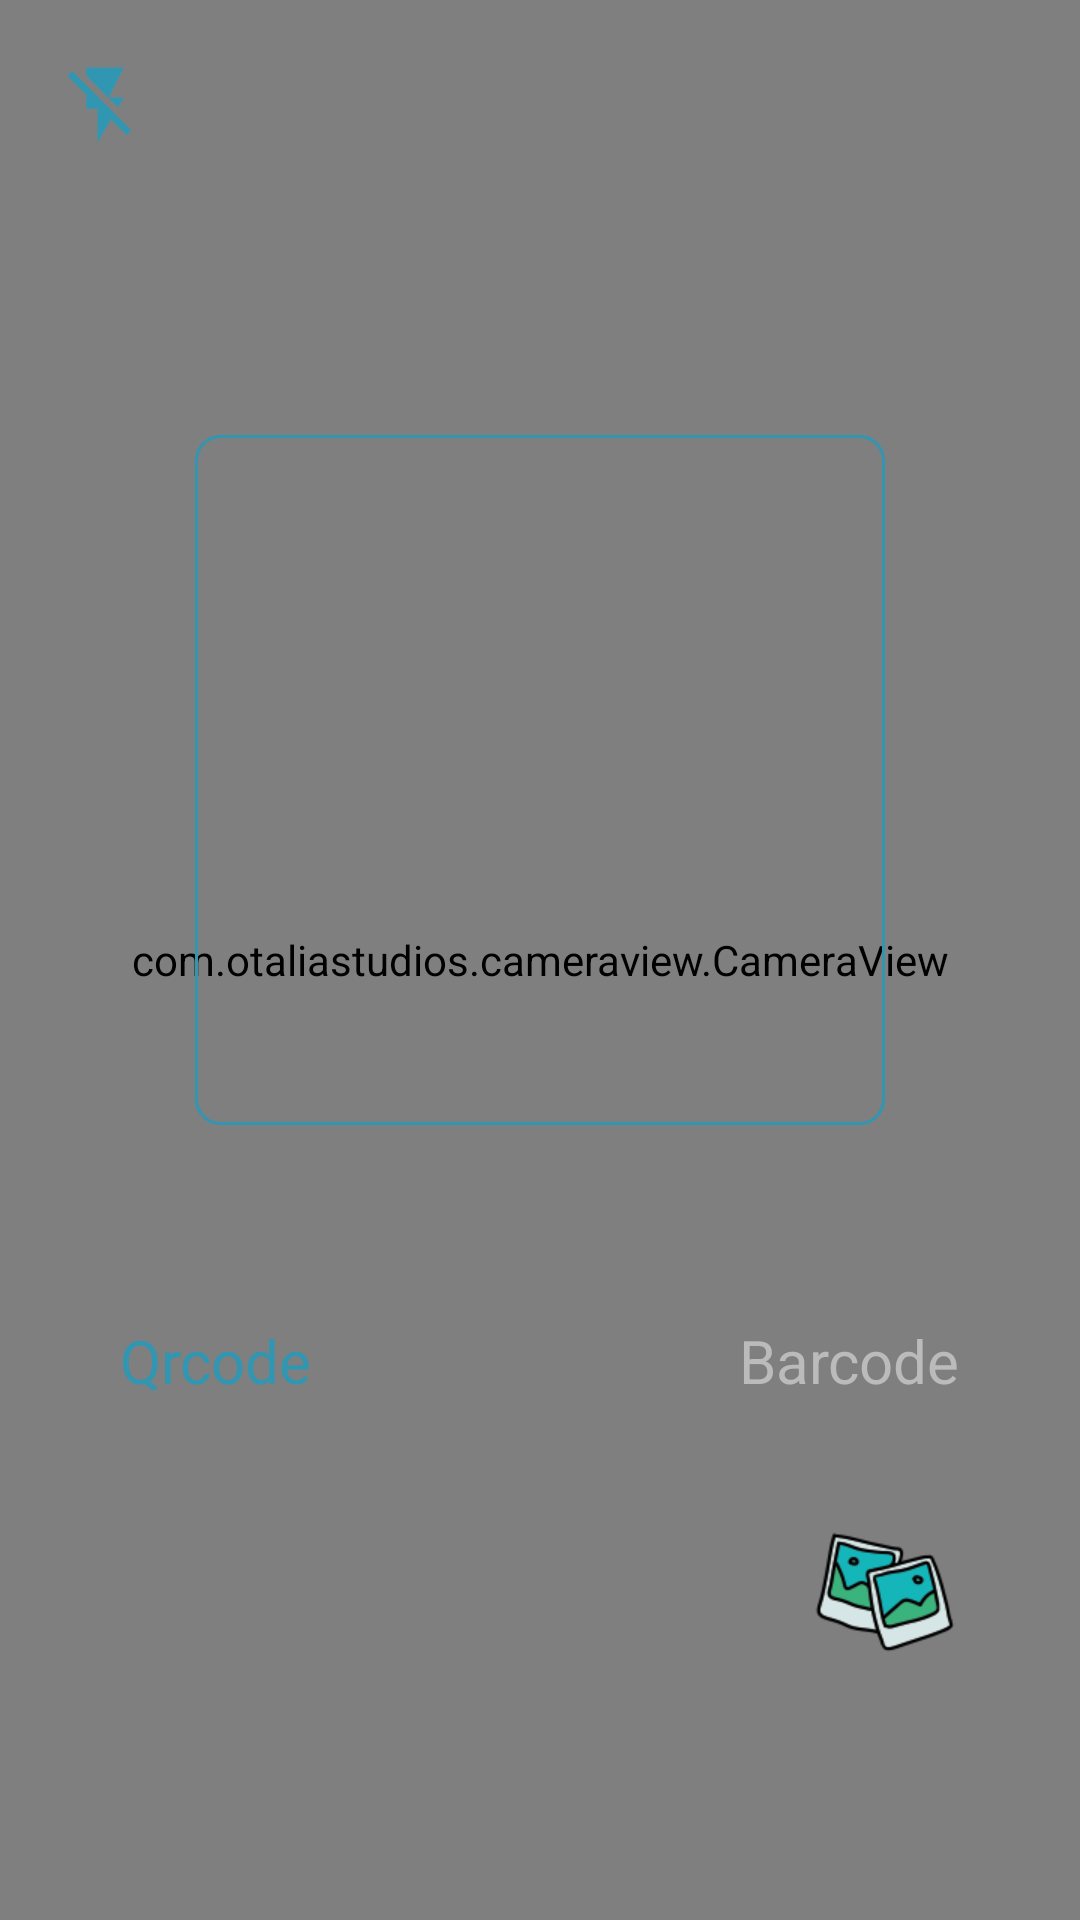

Point at icon controls on the screen. Image size 1080px x 1920px, points as [x,y].
flash off: [99,104]
gallery: [884,1592]
